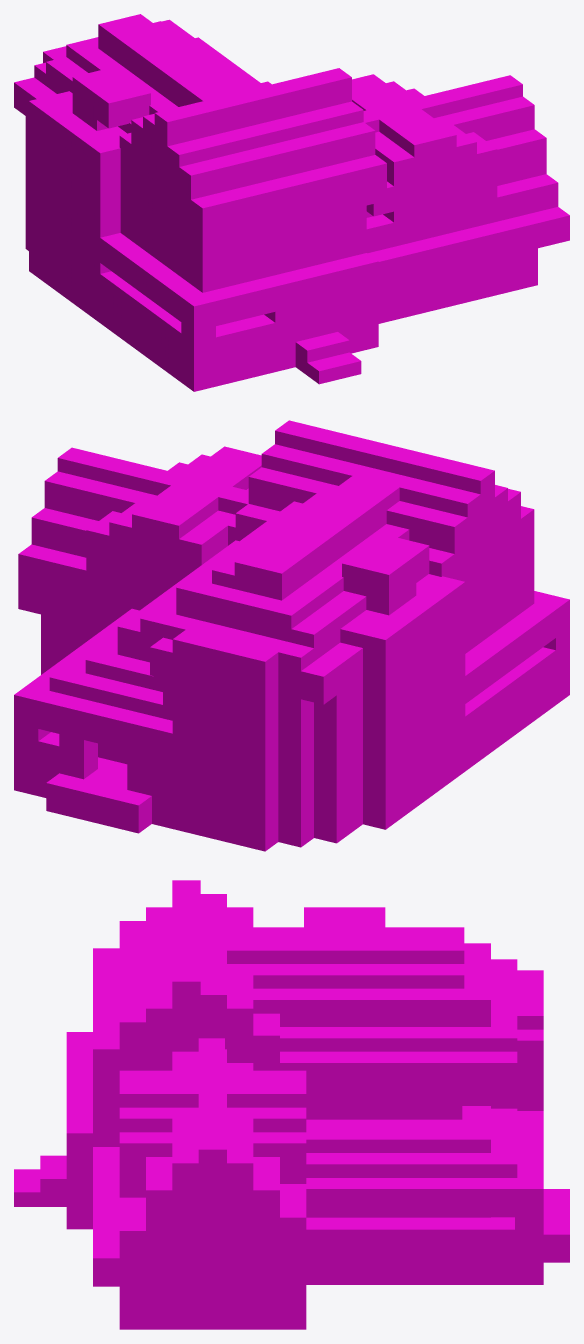
The picture shows the model from 3 angles, top to bottom: view 1: azimuth 30°, elevation 25°; view 2: azimuth 150°, elevation 25°; view 3: azimuth 270°, elevation 25°; orthographic projection. The views are drawn at different scales.
Visible parts, largest first — view 1: col_wall_04, col_wall_27, col_wall_66, col_wall_64, col_block_20, col_wall_10, col_wall_49, col_roof_45, col_wall_03, col_wall_02, col_roof_37, col_wall_73 (+86 smaller); view 2: col_wall_05, col_wall_57, col_wall_26, col_wall_60, col_roof_10, col_floor_02, col_wall_25, col_wall_01, col_wall_56, col_wall_03, col_wall_09, col_roof_05 (+97 smaller); view 3: col_wall_11, col_wall_12, col_wall_14, col_wall_15, col_wall_75, col_wall_43, col_wall_44, col_roof_30, col_wall_30, col_wall_76, col_roof_36, col_roof_37 (+93 smaller).
Part boxes in pixels (box(x1,y1,x2,y2)): col_wall_04: box(214, 314, 297, 386); col_wall_27: box(264, 258, 357, 323); col_wall_66: box(223, 196, 305, 263); col_wall_64: box(154, 186, 224, 269); col_block_20: box(415, 221, 508, 275); col_wall_10: box(414, 258, 495, 315); col_wall_49: box(414, 178, 476, 241); col_roof_45: box(220, 137, 314, 189); col_wall_03: box(122, 288, 180, 373); col_wall_02: box(75, 257, 134, 339); col_roof_37: box(379, 109, 456, 157); col_wall_73: box(414, 133, 476, 193); col_wall_05: box(173, 774, 278, 851); col_wall_57: box(172, 667, 278, 743); col_wall_26: box(172, 720, 278, 796); col_wall_60: box(86, 520, 177, 600); col_roof_10: box(172, 629, 278, 689); col_floor_02: box(46, 773, 151, 833); col_wall_25: box(363, 682, 438, 775); col_wall_01: box(363, 736, 438, 829); col_wall_56: box(363, 628, 438, 720); col_wall_03: box(478, 657, 543, 751); col_wall_09: box(14, 732, 97, 797); col_roof_05: box(361, 595, 438, 667); col_wall_11: box(409, 1217, 517, 1284); col_wall_12: box(306, 1217, 411, 1284); col_wall_14: box(198, 1274, 306, 1329); col_wall_15: box(119, 1274, 200, 1329); col_wall_75: box(383, 1051, 490, 1091); col_wall_43: box(409, 1178, 517, 1217); col_wall_44: box(306, 1178, 411, 1217); col_roof_30: box(330, 988, 437, 1026); col_wall_30: box(198, 1220, 306, 1275); col_wall_76: box(280, 1051, 385, 1091); col_roof_36: box(225, 1070, 306, 1107); col_roof_37: box(119, 1070, 200, 1107).
Bounding box in the file's own units: 1.41 × 0.7982 × 1.55.
